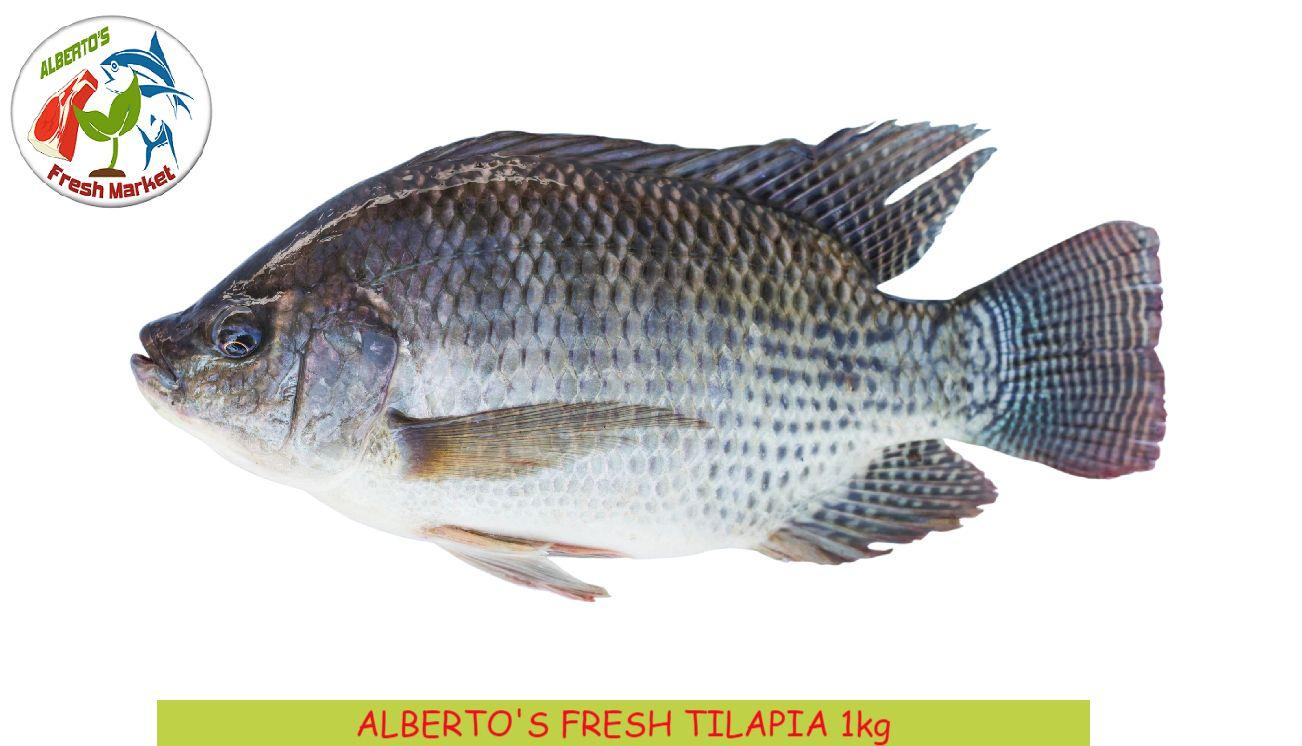Tilapia: (127, 108, 1168, 602)
